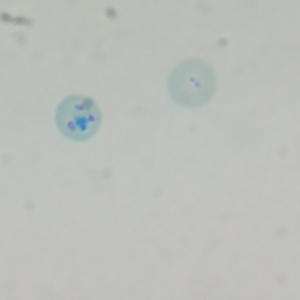erythrocyte: (165, 57, 218, 109), (53, 94, 103, 142)
